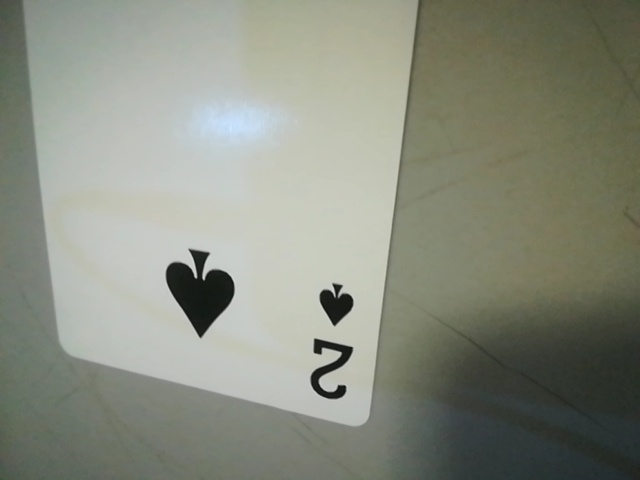ht 2: (293, 269, 373, 415)
